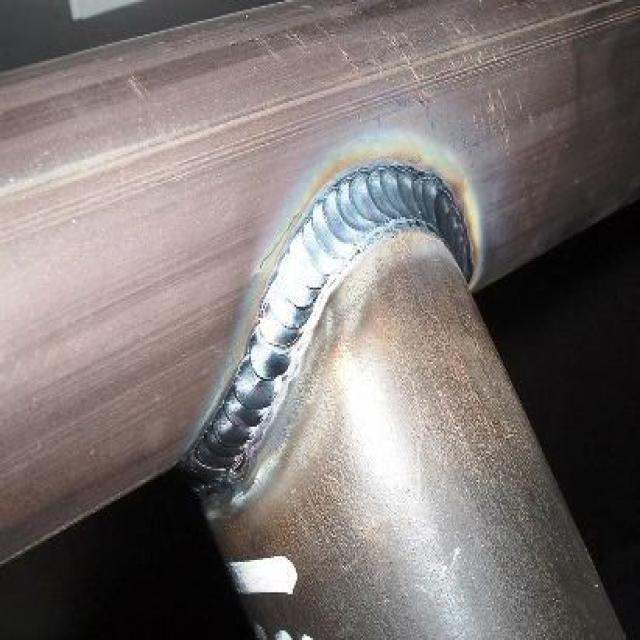Dry Waste: (182, 150, 475, 510)
